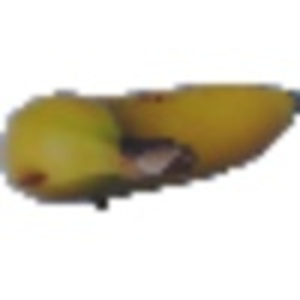banana: (2, 69, 293, 208)
